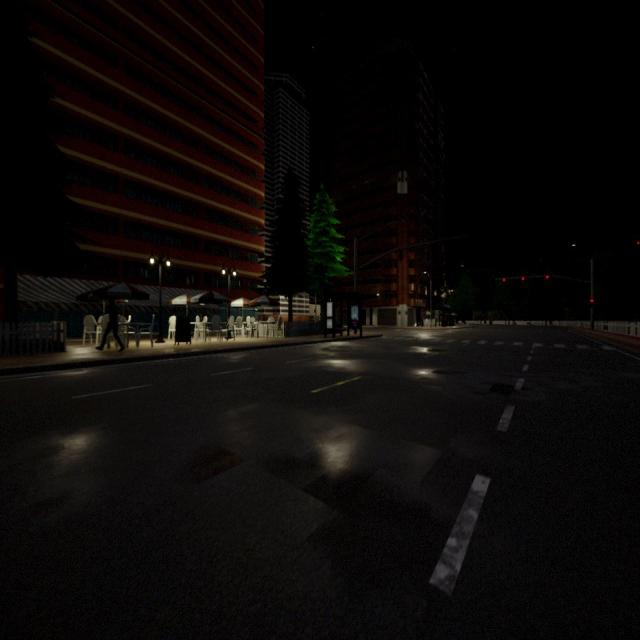Pedestrian: (94, 293, 126, 352)
traffic_light: (590, 298, 594, 308), (502, 278, 506, 282), (546, 275, 549, 279), (522, 276, 524, 280)
